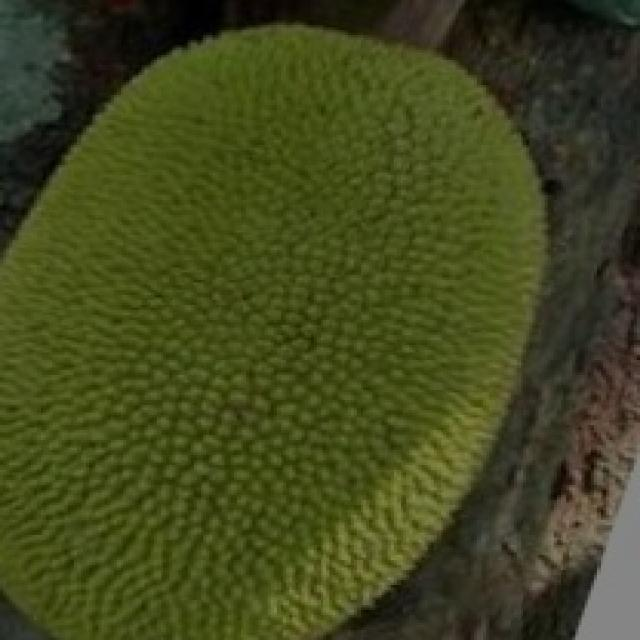Fruit: (0, 2, 400, 432), (0, 270, 397, 640), (200, 0, 609, 325)
